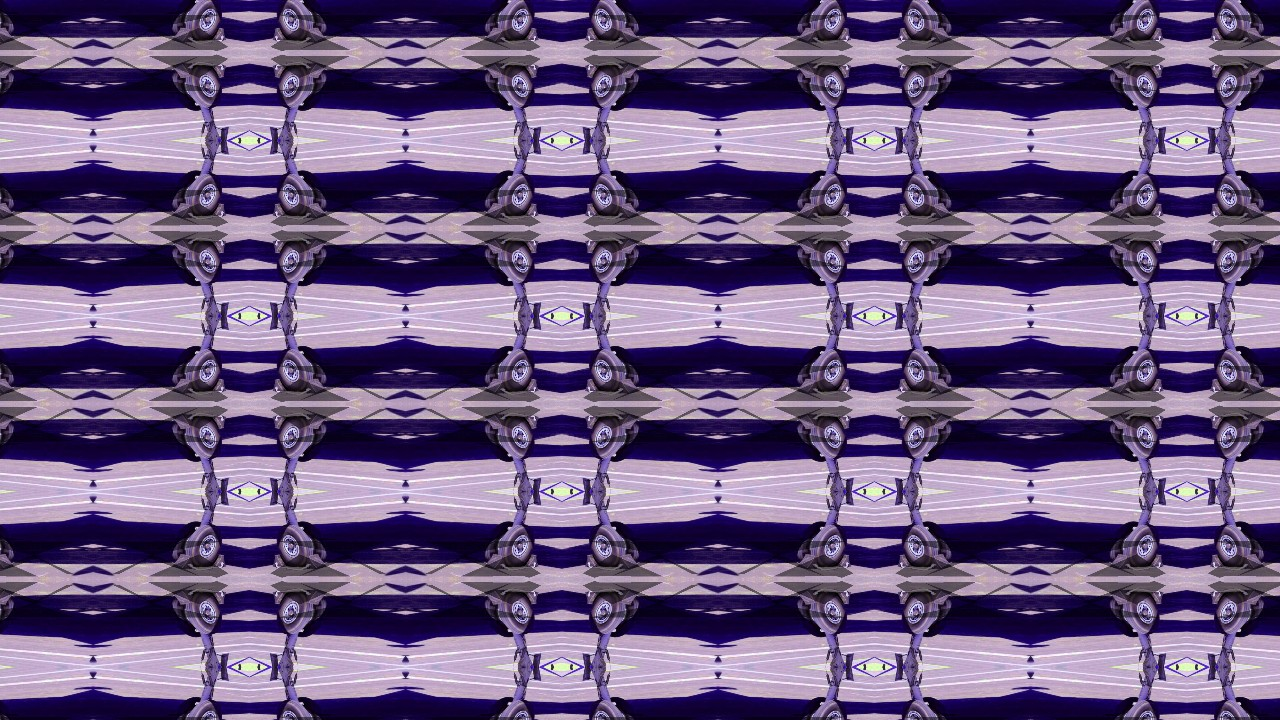chock: (169, 24, 196, 44), (482, 24, 509, 44), (795, 24, 822, 44), (1108, 24, 1135, 44), (169, 60, 196, 80), (482, 60, 509, 80), (795, 60, 822, 80), (1108, 60, 1135, 80), (169, 200, 196, 220), (482, 200, 509, 220), (795, 200, 822, 220), (1108, 200, 1135, 220), (169, 236, 196, 256), (482, 236, 509, 256), (795, 236, 822, 256), (1108, 236, 1135, 256), (169, 376, 196, 396), (482, 376, 509, 396), (795, 376, 822, 396), (1108, 376, 1135, 396), (169, 412, 196, 432), (482, 412, 509, 432), (795, 412, 822, 432), (1108, 412, 1135, 432), (169, 552, 196, 572), (482, 552, 509, 572), (795, 552, 822, 572), (1108, 552, 1135, 572), (169, 588, 196, 608), (482, 588, 509, 608), (795, 588, 822, 608), (1108, 588, 1135, 608), (302, 24, 328, 44), (615, 24, 641, 44), (928, 24, 954, 44), (1241, 24, 1267, 44), (302, 60, 328, 80), (615, 60, 641, 80), (928, 60, 954, 80), (1241, 60, 1267, 80), (302, 200, 328, 220), (615, 200, 641, 220), (928, 200, 954, 220), (1241, 200, 1267, 220), (302, 236, 328, 256), (615, 236, 641, 256), (928, 236, 954, 256), (1241, 236, 1267, 256), (302, 376, 328, 396), (615, 376, 641, 396), (928, 376, 954, 396), (1241, 376, 1267, 396), (302, 412, 328, 432), (615, 412, 641, 432), (928, 412, 954, 432), (1241, 412, 1267, 432), (302, 552, 328, 572), (615, 552, 641, 572), (928, 552, 954, 572), (1241, 552, 1267, 572), (302, 588, 328, 608), (615, 588, 641, 608), (928, 588, 954, 608), (1241, 588, 1267, 608), (207, 26, 228, 42), (269, 26, 290, 42), (520, 26, 541, 42), (582, 26, 603, 42), (833, 26, 854, 42), (895, 26, 916, 42), (1146, 26, 1167, 42), (1208, 26, 1229, 42), (207, 62, 228, 78), (269, 62, 290, 78), (520, 62, 541, 78), (582, 62, 603, 78), (833, 62, 854, 78), (895, 62, 916, 78), (1146, 62, 1167, 78), (1208, 62, 1229, 78), (207, 202, 228, 218), (269, 202, 290, 218), (520, 202, 541, 218), (582, 202, 603, 218), (833, 202, 854, 218), (895, 202, 916, 218), (1146, 202, 1167, 218), (1208, 202, 1229, 218), (207, 238, 228, 254), (269, 238, 290, 254), (520, 238, 541, 254), (582, 238, 603, 254), (833, 238, 854, 254), (895, 238, 916, 254), (1146, 238, 1167, 254), (1208, 238, 1229, 254), (207, 378, 228, 394), (269, 378, 290, 394), (520, 378, 541, 394), (582, 378, 603, 394), (833, 378, 854, 394), (895, 378, 916, 394), (1146, 378, 1167, 394), (1208, 378, 1229, 394), (207, 414, 228, 430), (269, 414, 290, 430), (520, 414, 541, 430), (582, 414, 603, 430), (833, 414, 854, 430), (895, 414, 916, 430), (1146, 414, 1167, 430), (1208, 414, 1229, 430), (207, 554, 228, 570), (269, 554, 290, 570), (520, 554, 541, 570), (582, 554, 603, 570), (833, 554, 854, 570), (895, 554, 916, 570), (1146, 554, 1167, 570), (1208, 554, 1229, 570), (207, 590, 228, 606), (269, 590, 290, 606), (520, 590, 541, 606), (582, 590, 603, 606), (833, 590, 854, 606), (895, 590, 916, 606), (1146, 590, 1167, 606), (1208, 590, 1229, 606), (0, 24, 15, 44), (0, 60, 15, 80), (0, 200, 15, 220), (0, 236, 15, 256), (0, 376, 15, 396), (0, 412, 15, 432), (0, 552, 15, 572), (0, 588, 15, 608)
wheel: (181, 62, 225, 108), (494, 62, 538, 108), (807, 62, 851, 108), (1120, 62, 1164, 108), (181, 172, 225, 218), (494, 172, 538, 218), (807, 172, 851, 218), (1120, 172, 1164, 218), (181, 238, 225, 284), (494, 238, 538, 284), (807, 238, 851, 284), (1120, 238, 1164, 284), (181, 348, 225, 394), (494, 348, 538, 394), (807, 348, 851, 394), (1120, 348, 1164, 394), (181, 414, 225, 460), (494, 414, 538, 460), (807, 414, 851, 460), (1120, 414, 1164, 460), (181, 524, 225, 570), (494, 524, 538, 570), (807, 524, 851, 570), (1120, 524, 1164, 570), (181, 590, 225, 636), (494, 590, 538, 636), (807, 590, 851, 636), (1120, 590, 1164, 636), (273, 62, 316, 108), (586, 62, 629, 108), (899, 62, 942, 108), (1212, 62, 1255, 108), (273, 172, 316, 218), (586, 172, 629, 218), (899, 172, 942, 218), (1212, 172, 1255, 218), (273, 238, 316, 284), (586, 238, 629, 284), (899, 238, 942, 284), (1212, 238, 1255, 284), (273, 348, 316, 394), (586, 348, 629, 394), (899, 348, 942, 394), (1212, 348, 1255, 394), (273, 414, 316, 460), (586, 414, 629, 460), (899, 414, 942, 460), (1212, 414, 1255, 460), (273, 524, 316, 570), (586, 524, 629, 570), (899, 524, 942, 570), (1212, 524, 1255, 570), (273, 590, 316, 636), (586, 590, 629, 636), (899, 590, 942, 636), (1212, 590, 1255, 636), (181, 0, 225, 42), (494, 0, 538, 42), (807, 0, 851, 42), (1120, 0, 1164, 42), (273, 0, 316, 42), (586, 0, 629, 42), (899, 0, 942, 42), (1212, 0, 1255, 42), (165, 68, 201, 112), (297, 68, 333, 112), (478, 68, 514, 112), (610, 68, 646, 112), (791, 68, 827, 112), (923, 68, 959, 112), (1104, 68, 1140, 112), (1236, 68, 1272, 112), (165, 168, 201, 212), (297, 168, 333, 212), (478, 168, 514, 212), (610, 168, 646, 212), (791, 168, 827, 212), (923, 168, 959, 212), (1104, 168, 1140, 212), (1236, 168, 1272, 212), (165, 244, 201, 288), (297, 244, 333, 288), (478, 244, 514, 288), (610, 244, 646, 288), (791, 244, 827, 288), (923, 244, 959, 288), (1104, 244, 1140, 288), (1236, 244, 1272, 288), (165, 344, 201, 388), (297, 344, 333, 388), (478, 344, 514, 388), (610, 344, 646, 388), (791, 344, 827, 388), (923, 344, 959, 388), (1104, 344, 1140, 388), (1236, 344, 1272, 388), (165, 420, 201, 464), (297, 420, 333, 464), (478, 420, 514, 464), (610, 420, 646, 464), (791, 420, 827, 464), (923, 420, 959, 464), (1104, 420, 1140, 464), (1236, 420, 1272, 464), (165, 520, 201, 564), (297, 520, 333, 564), (478, 520, 514, 564), (610, 520, 646, 564), (791, 520, 827, 564), (923, 520, 959, 564), (1104, 520, 1140, 564), (1236, 520, 1272, 564), (165, 596, 201, 640), (297, 596, 333, 640), (478, 596, 514, 640), (610, 596, 646, 640), (791, 596, 827, 640), (923, 596, 959, 640), (1104, 596, 1140, 640), (1236, 596, 1272, 640), (165, 0, 201, 36), (297, 0, 333, 36), (478, 0, 514, 36), (610, 0, 646, 36), (791, 0, 827, 36), (923, 0, 959, 36), (1104, 0, 1140, 36), (1236, 0, 1272, 36), (0, 68, 20, 112), (0, 168, 20, 212), (0, 244, 20, 288), (0, 344, 20, 388), (0, 420, 20, 464), (0, 520, 20, 564), (0, 596, 20, 640), (181, 700, 225, 720), (494, 700, 538, 720), (807, 700, 851, 720), (1120, 700, 1164, 720), (165, 696, 201, 720), (297, 696, 333, 720), (478, 696, 514, 720), (610, 696, 646, 720), (791, 696, 827, 720), (923, 696, 959, 720), (1104, 696, 1140, 720), (1236, 696, 1272, 720), (273, 700, 316, 720), (586, 700, 629, 720), (899, 700, 942, 720), (1212, 700, 1255, 720), (0, 0, 20, 36), (0, 696, 20, 720), (0, 62, 3, 108), (0, 172, 3, 218), (0, 238, 3, 284), (0, 348, 3, 394), (0, 414, 3, 460), (0, 524, 3, 570), (0, 590, 3, 636), (0, 0, 3, 42), (87, 128, 92, 137), (92, 128, 97, 137), (400, 128, 405, 137), (405, 128, 410, 137), (713, 128, 718, 137), (718, 128, 723, 137), (1026, 128, 1031, 137), (1031, 128, 1036, 137), (87, 143, 92, 152), (92, 143, 97, 152), (400, 143, 405, 152), (405, 143, 410, 152), (713, 143, 718, 152), (718, 143, 723, 152), (1026, 143, 1031, 152), (1031, 143, 1036, 152), (87, 304, 92, 313), (92, 304, 97, 313), (400, 304, 405, 313), (405, 304, 410, 313), (713, 304, 718, 313), (718, 304, 723, 313), (1026, 304, 1031, 313), (1031, 304, 1036, 313), (87, 319, 92, 328), (92, 319, 97, 328), (400, 319, 405, 328), (405, 319, 410, 328), (713, 319, 718, 328), (718, 319, 723, 328), (1026, 319, 1031, 328), (1031, 319, 1036, 328), (87, 480, 92, 489), (92, 480, 97, 489), (400, 480, 405, 489), (405, 480, 410, 489), (713, 480, 718, 489), (718, 480, 723, 489), (1026, 480, 1031, 489), (1031, 480, 1036, 489), (87, 495, 92, 504), (92, 495, 97, 504), (400, 495, 405, 504), (405, 495, 410, 504), (713, 495, 718, 504), (718, 495, 723, 504), (1026, 495, 1031, 504), (1031, 495, 1036, 504), (87, 656, 92, 665), (92, 656, 97, 665), (400, 656, 405, 665), (405, 656, 410, 665), (713, 656, 718, 665), (718, 656, 723, 665), (1026, 656, 1031, 665), (1031, 656, 1036, 665), (87, 671, 92, 680), (92, 671, 97, 680), (400, 671, 405, 680), (405, 671, 410, 680), (713, 671, 718, 680), (718, 671, 723, 680), (1026, 671, 1031, 680), (1031, 671, 1036, 680)
